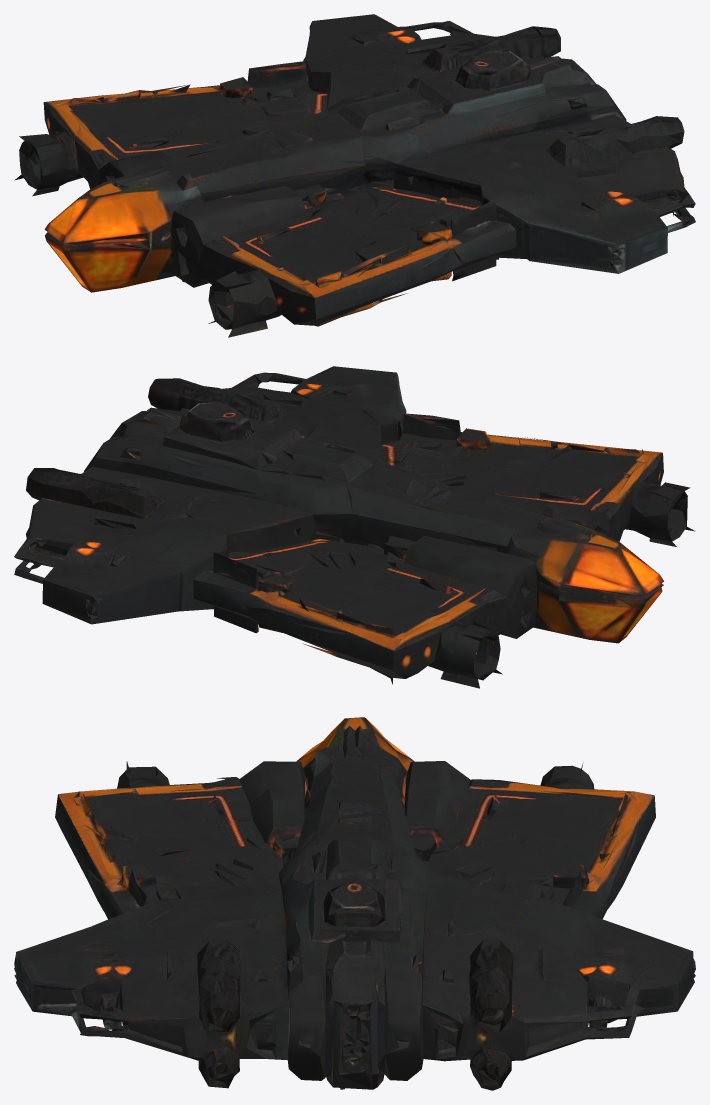
File: nation-t-carrier.glb
3 views of the same model, one above another, from view 1: azimuth 30°, elevation 25°; view 2: azimuth 150°, elevation 25°; view 3: azimuth 270°, elevation 25° (orthographic). The views are drawn at different scales.
Size of the model in its own units: 1.9 by 0.5219 by 1.8.
Materials: 1 (1 with a texture image).
